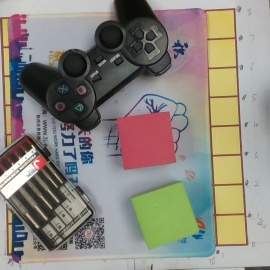remote: (19, 1, 172, 129)
